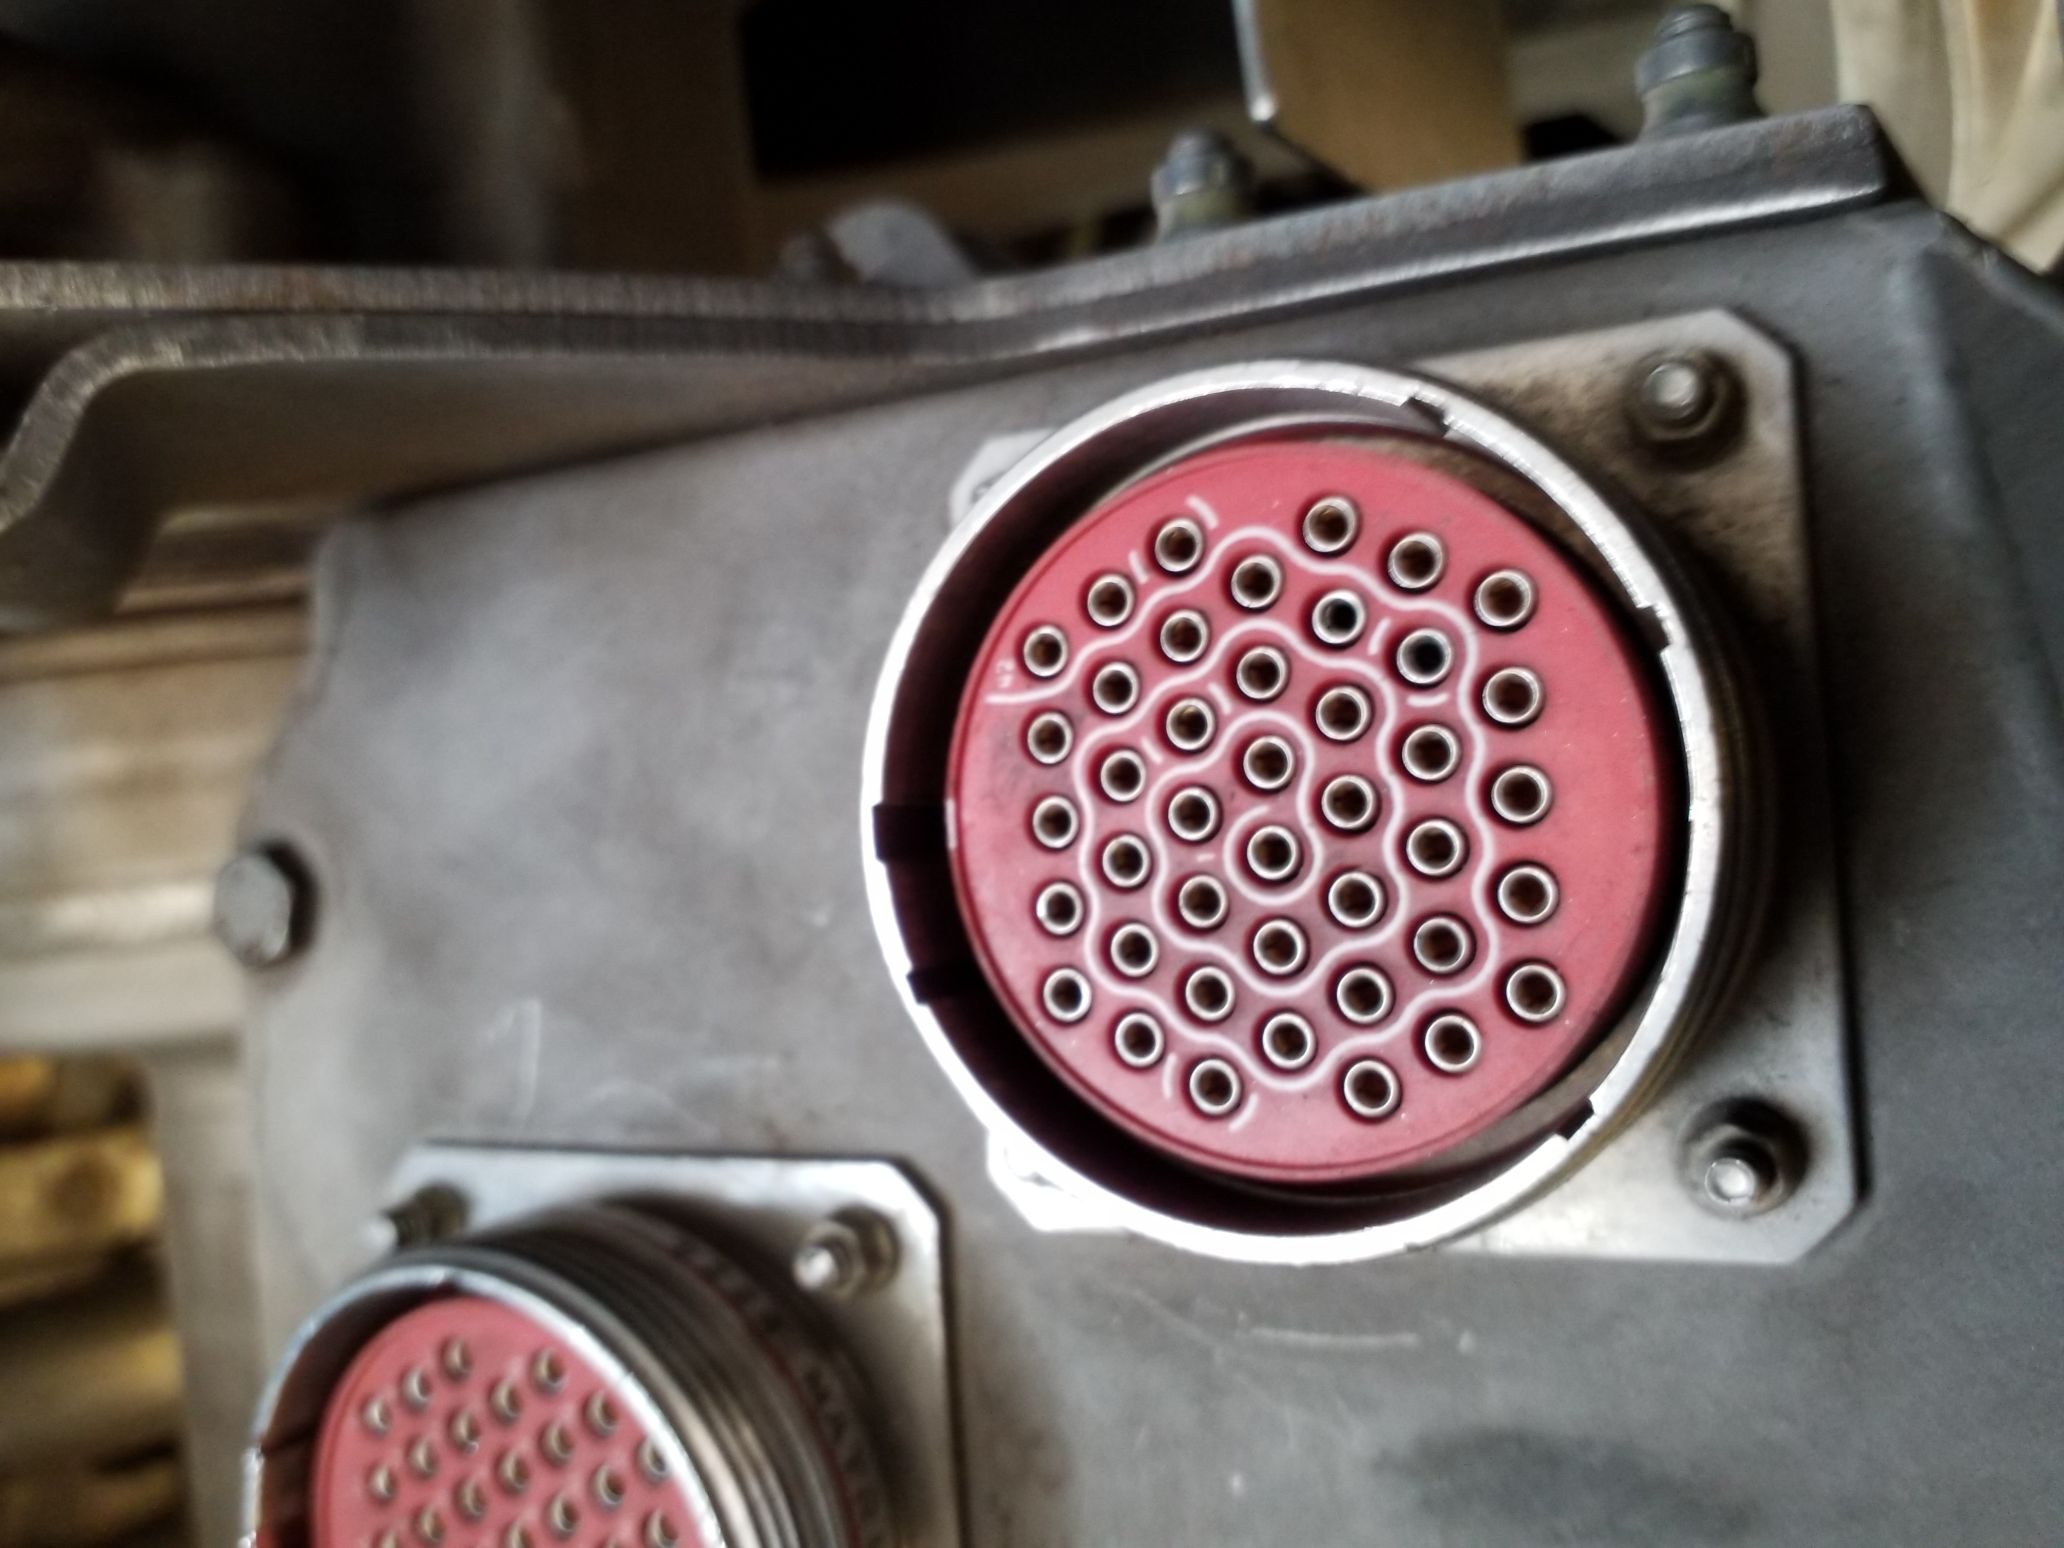inletround: (843, 338, 1755, 1275)
